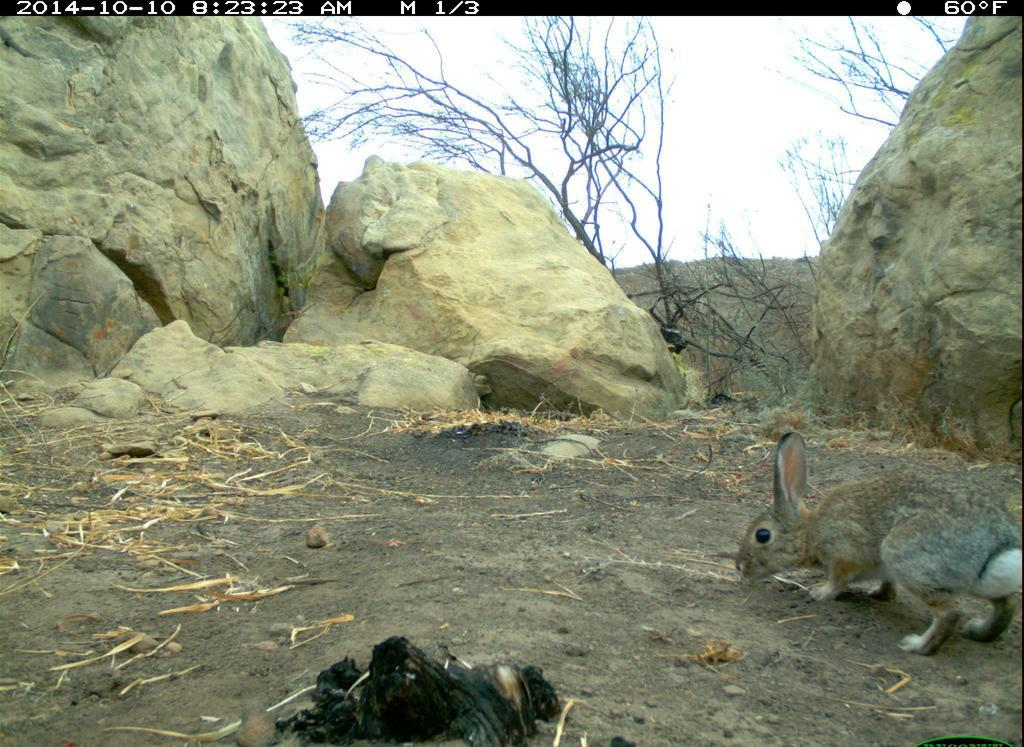rabbit: (730, 425, 1017, 657)
